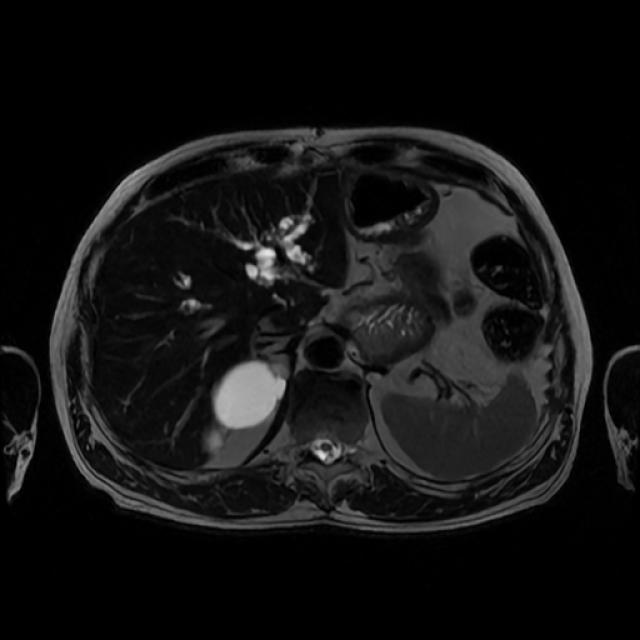sag: (212, 360, 284, 431)
